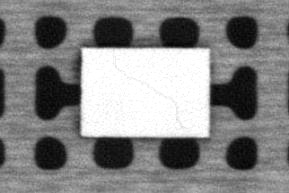DIE_CRACK: (112, 54, 185, 126)
